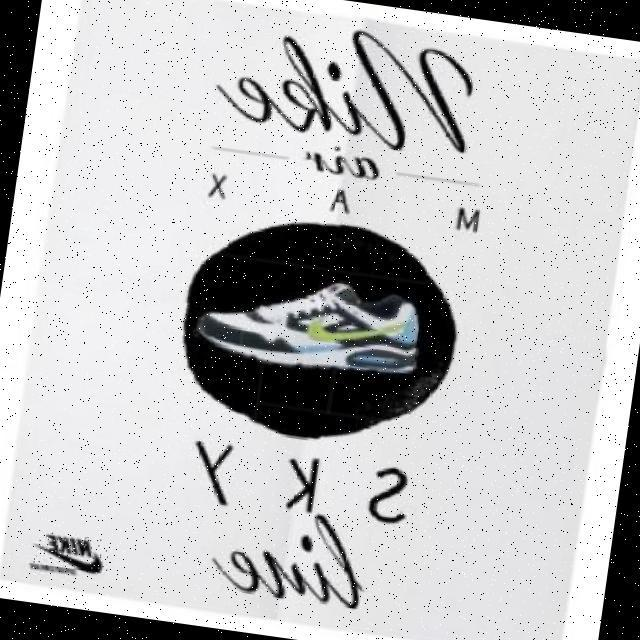Nike: (33, 530, 113, 576)
